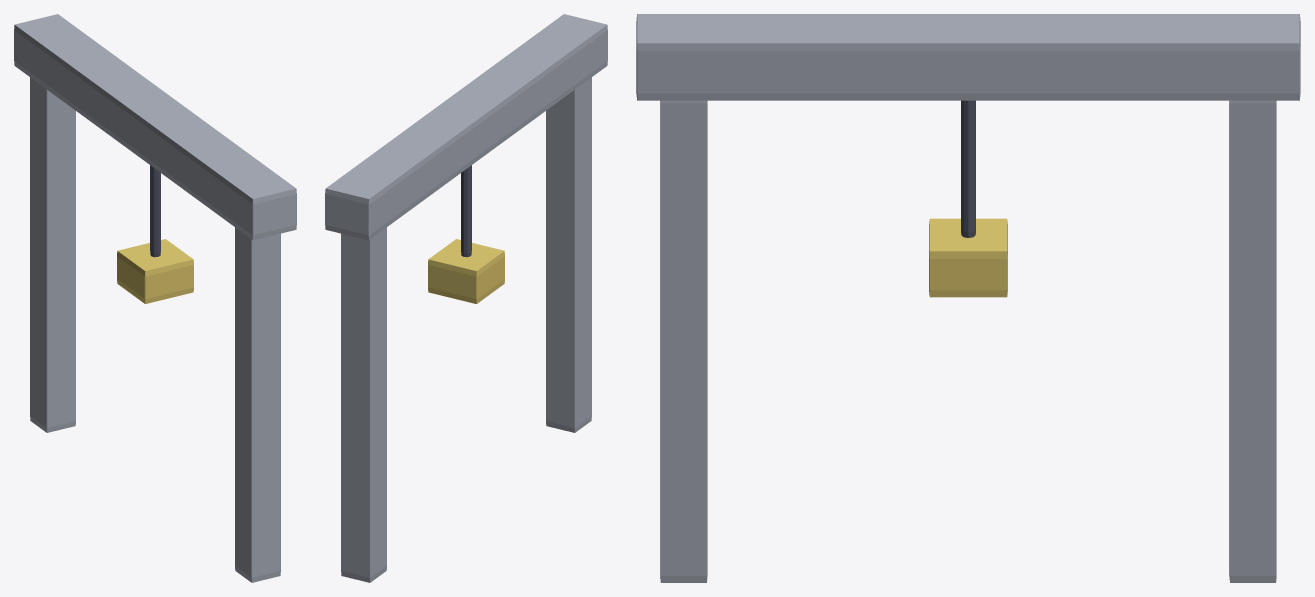
File: montaj.glb
3 views of the same model, side by side, from view 1: azimuth 30°, elevation 25°; view 2: azimuth 150°, elevation 25°; view 3: azimuth 270°, elevation 25° (orthographic). The views are drawn at different scales.
Visible parts, largest first — view 1: MontajKoprusu; view 2: MontajKoprusu; view 3: MontajKoprusu.
Boxes of the visible parts, x1=… form: MontajKoprusu: x1=14, y1=14, x2=296, y2=582; MontajKoprusu: x1=325, y1=14, x2=607, y2=582; MontajKoprusu: x1=636, y1=14, x2=1300, y2=582.
Size of the model in its own units: 0.5 by 3.8 by 4.2.
